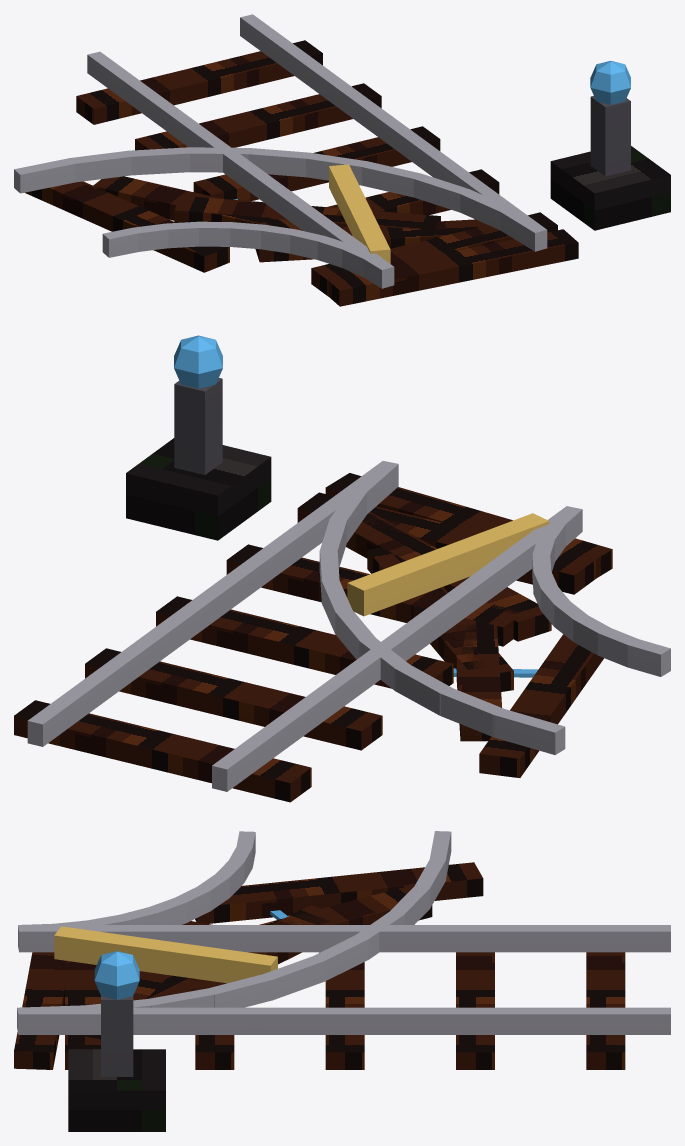
The model's file is rail_switch_left.glb.
The picture shows the model from 3 angles, top to bottom: view 1: azimuth 30°, elevation 25°; view 2: azimuth 150°, elevation 25°; view 3: azimuth 270°, elevation 25°; orthographic projection. The views are drawn at different scales.
Visible parts, largest first — view 1: rail_switch_left; view 2: rail_switch_left; view 3: rail_switch_left.
Boxes of the visible parts, x1,y1,x2,y2 form: rail_switch_left: (14,14,670,306); rail_switch_left: (14,335,670,802); rail_switch_left: (14,831,670,1131).
Bounding box in the file's own units: 1.91 × 0.54 × 2.02.
Materials: 4 (2 with a texture image).
